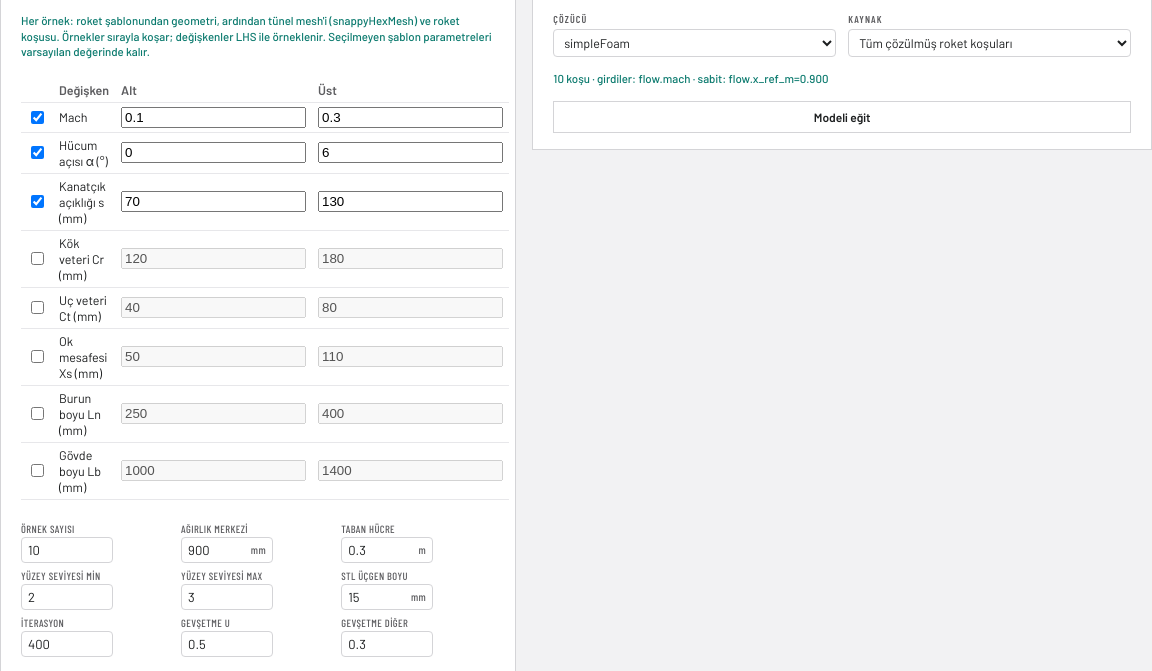
Scenario: CfdMlPanel (2.9) › eğitir, CV tablosu ve aralık dışı tahmin gösterir
The width and height of the screenshot is (1152, 671).
Check: the text with test id "cfd-corpus" shows "10 koşu", box [553,71,828,85]
Click the button "Modeli eğit" at (842, 116), box [553,100,1131,132]
(page scrolled)
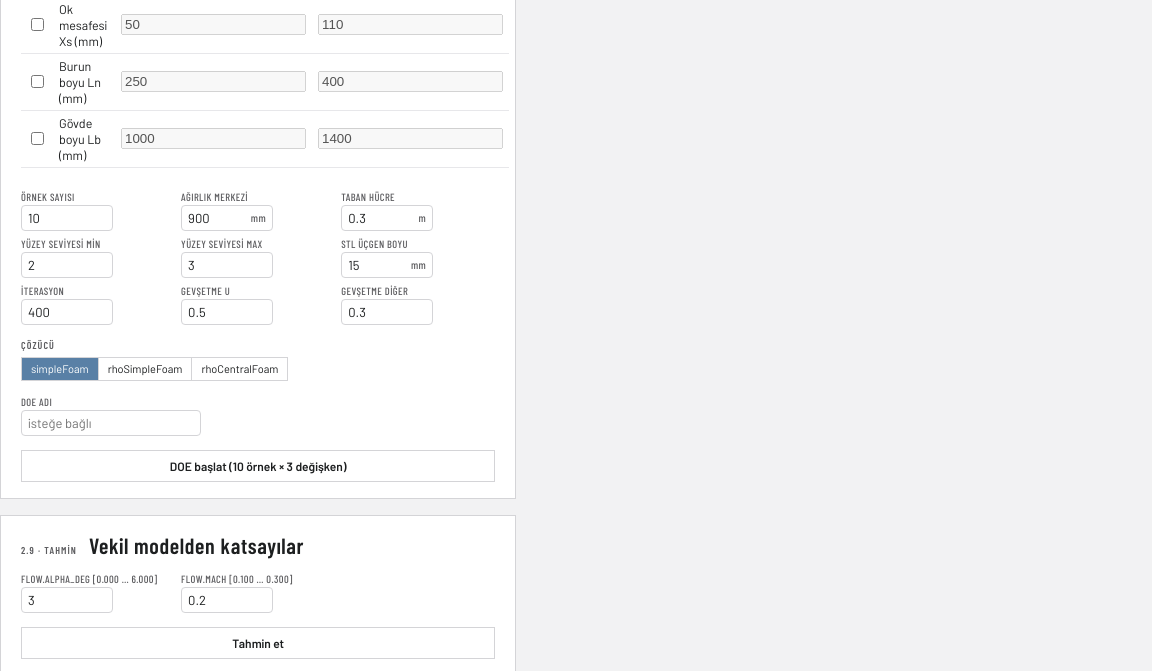
Replace the text in the field labelled "flow.mach [0.100 … 0.300]" with "0.5" at (227, 600), box [182,588,272,612]
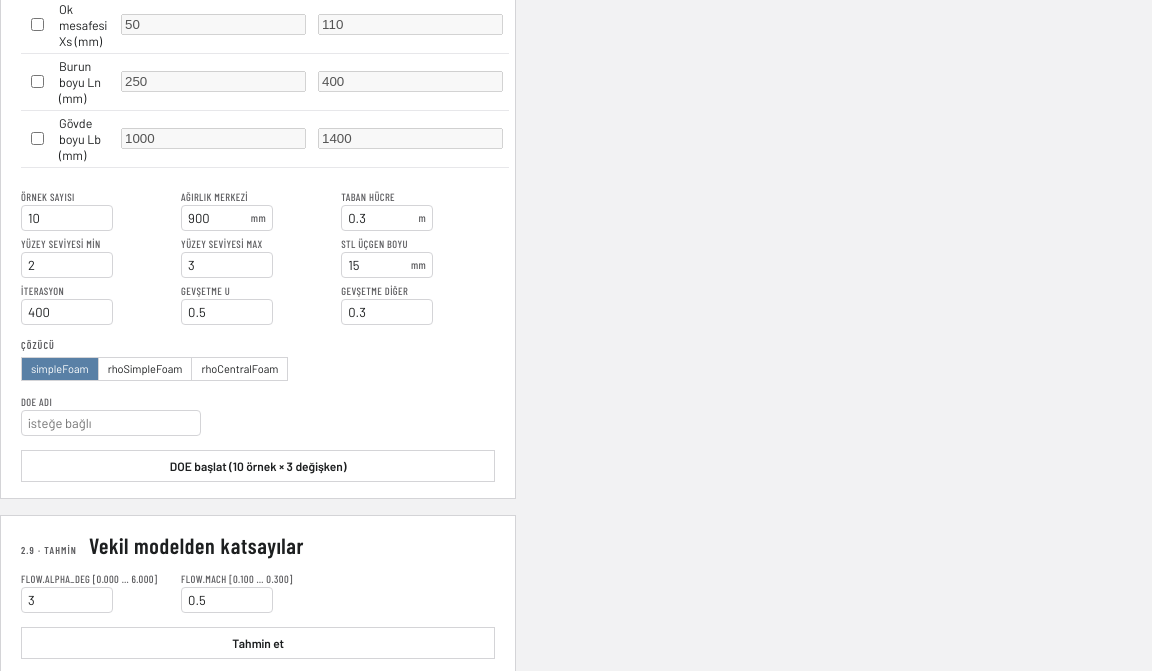
Click the button "Tahmin et" at (258, 642), box [21,626,495,658]
(page scrolled)
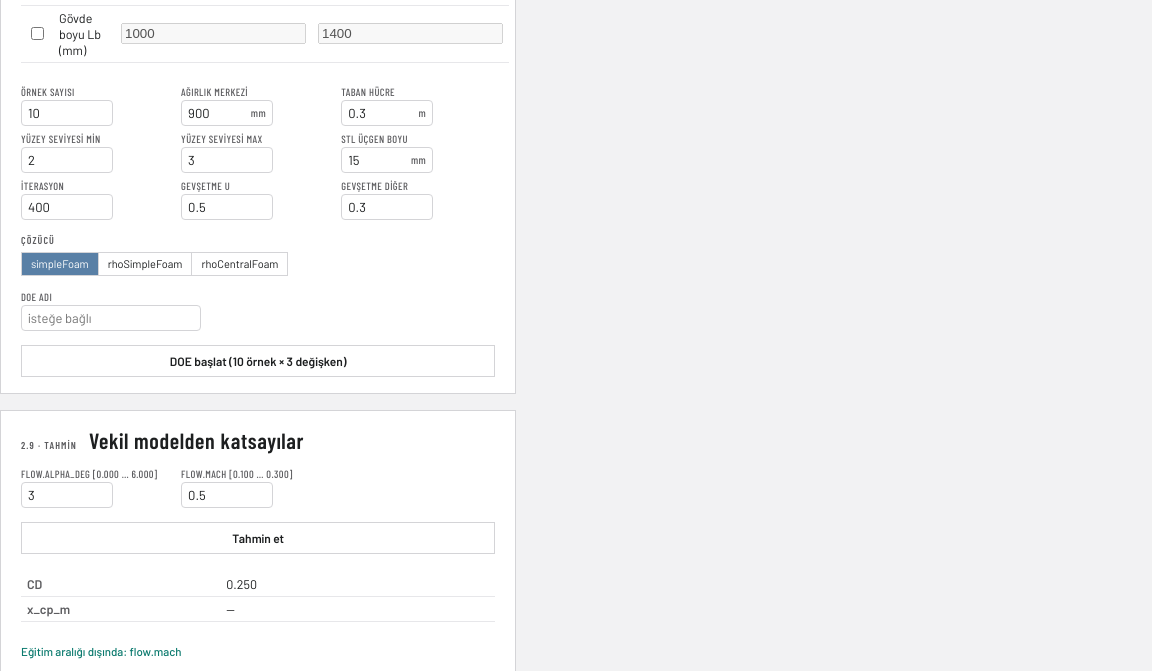
Check: the text with test id "cfd-ood" shows "flow.mach", box [130,644,182,658]
